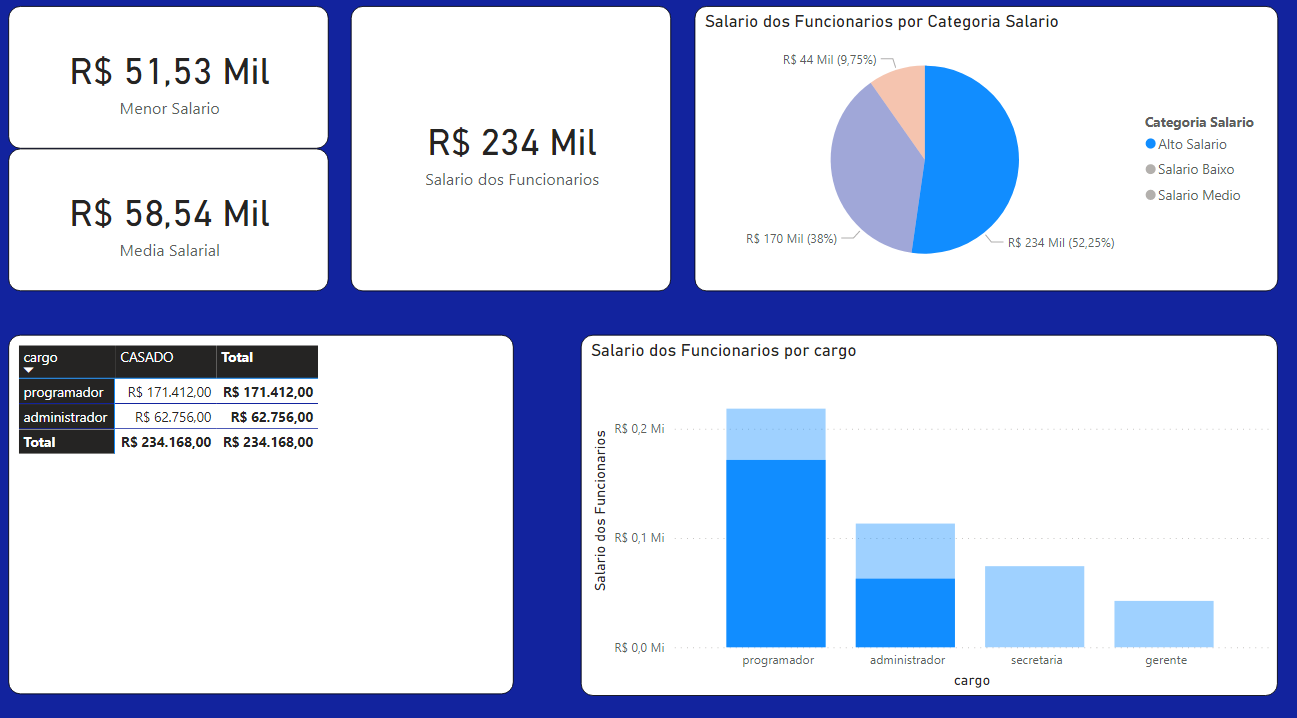

This screenshot's page, from the dashboard's own definition file:
{"tool":"powerbi","page":{"name":"Página 1","canvas":[1280,720],"ordinal":0},"visuals":[{"type":"card","fields":{"Values":["Funcionario.Salario dos Funcionarios"]},"box":[347.5,9.6,314.5,280.2],"z":0},{"type":"card","fields":{"Values":["Medidas.Media Salarial"]},"box":[11,149.7,314.5,140.1],"z":1000},{"type":"card","fields":{"Values":["Medidas.Menor Salario"]},"box":[11,9.6,314.5,140.1],"z":2000},{"type":"columnChart","fields":{"Y":["Medidas.Salario dos Funcionarios"],"Category":["Funcionario.cargo"]},"box":[572.7,332.4,683.9,354.3],"z":3000},{"type":"pieChart","fields":{"Category":["Funcionario.Categoria Salario"],"Y":["Medidas.Salario dos Funcionarios"]},"box":[683.9,9.6,572.7,280.2],"z":4000},{"type":"pivotTable","fields":{"Values":["Sum(Funcionario.Salario Liquido)"],"Rows":["Funcionario.cargo"],"Columns":["Funcionario.Estado Civil"]},"box":[11,332.4,495.8,353],"z":5000}]}

Visuals, with their boxes in screenshot pixels (x1, y1, x2, y2), scaled from the page's 1280x720 canvas onto the 1297x718 screenshot:
card - Funcionario.Salario dos Funcionarios: detection(352, 10, 671, 289)
card - Medidas.Media Salarial: detection(11, 149, 330, 289)
card - Medidas.Menor Salario: detection(11, 10, 330, 149)
columnChart - Medidas.Salario dos Funcionarios x Funcionario.cargo: detection(580, 331, 1273, 685)
pieChart - Funcionario.Categoria Salario x Medidas.Salario dos Funcionarios: detection(693, 10, 1273, 289)
pivotTable - Sum(Funcionario.Salario Liquido) x Funcionario.cargo: detection(11, 331, 514, 683)
